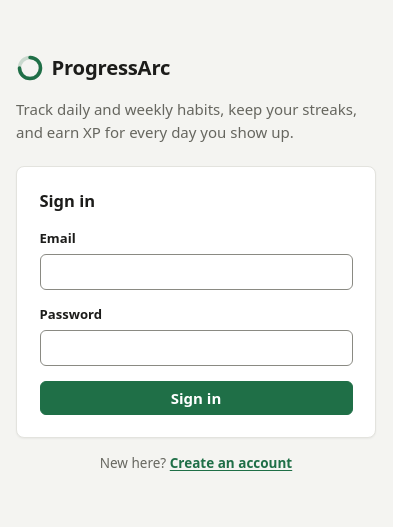
Scenario: AuthScreen › shows the server's reason for refusing a sign-in
The width and height of the screenshot is (393, 527).
Type "a@example.com" into the field labelled "Email".
click(196, 272); type("a@example.com")  # box [40,254,352,290]
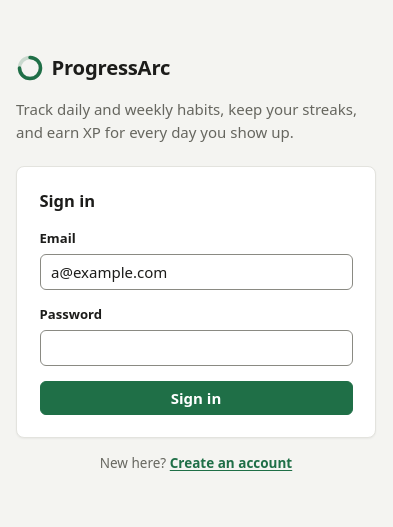
Type "password1" into the password field labelled "Password".
click(196, 348); type("password1")  # box [40,330,352,366]
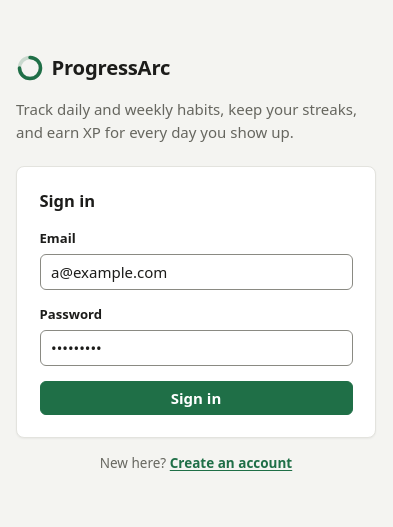
Click the button "Sign in".
click(196, 398)  # box [40,381,352,415]
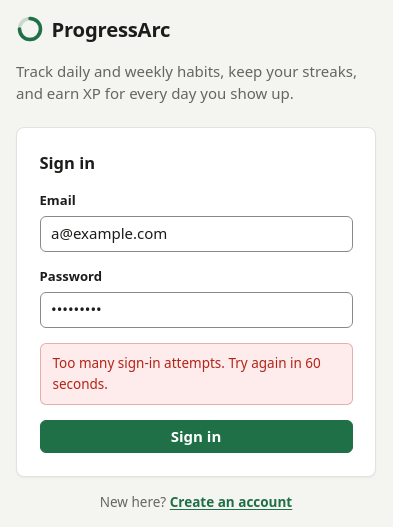
Now the message reads "Too many sign-in attempts. Try again in 60 seconds.", box [52,354,321,393]
